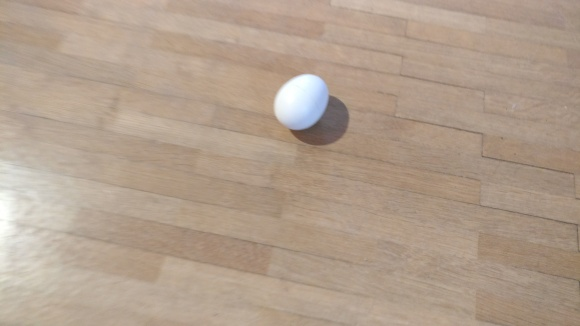egg: (273, 73, 328, 131)
